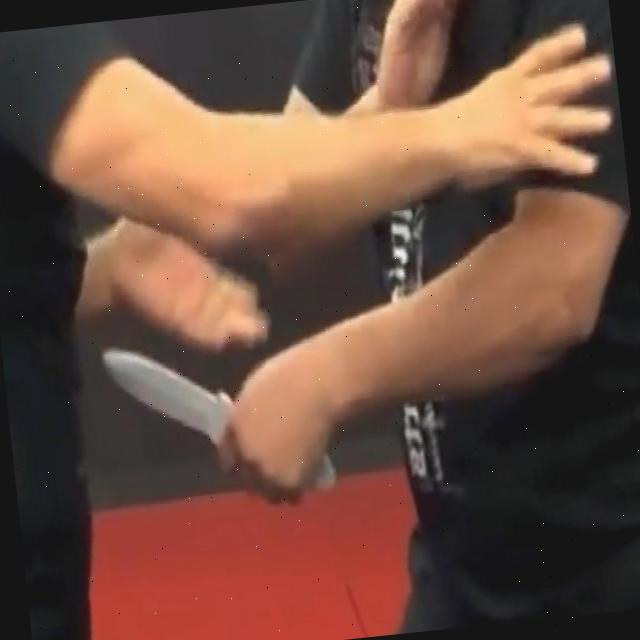suspicion: (60, 0, 640, 534), (98, 332, 232, 450), (312, 454, 341, 494)
